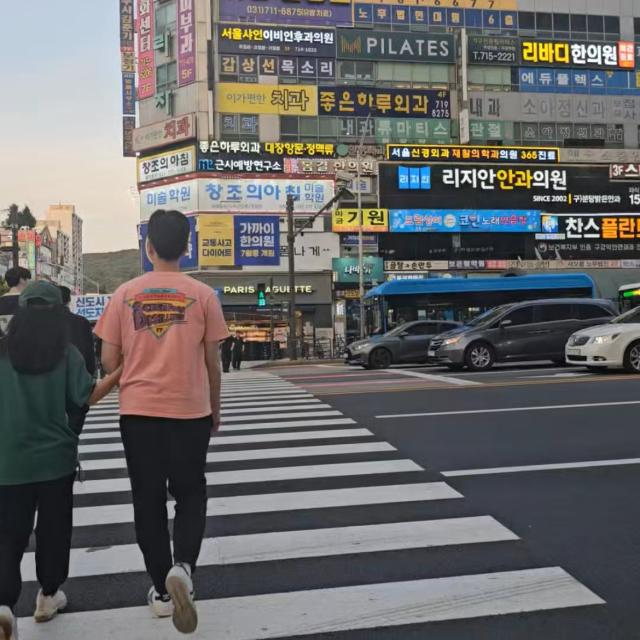green_light: (257, 281, 268, 312)
zebra: (0, 330, 640, 640)
